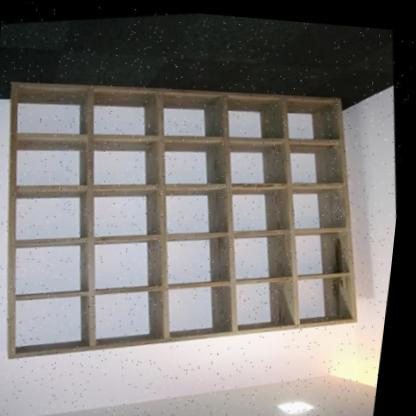Shelf: (0, 29, 396, 389)
